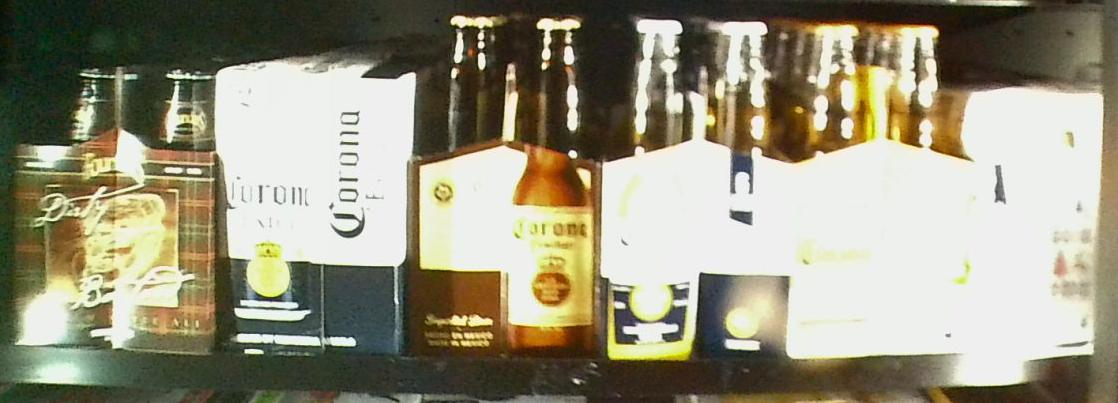bottle: (598, 11, 787, 358), (410, 10, 597, 357), (1, 61, 218, 351), (786, 19, 962, 354), (218, 65, 406, 357), (967, 89, 1102, 346)
